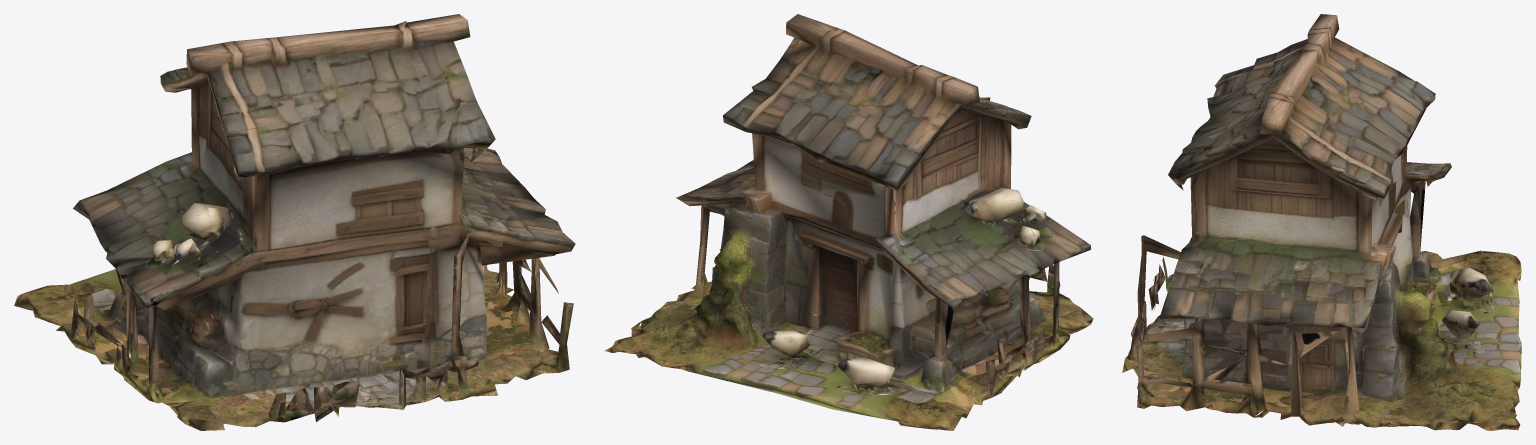
The model's file is farmstead.glb.
3 views of the same model, side by side, from view 1: azimuth 30°, elevation 25°; view 2: azimuth 150°, elevation 25°; view 3: azimuth 270°, elevation 25° (orthographic). The views are drawn at different scales.
Visible parts, largest first — view 1: Mesh1.0; view 2: Mesh1.0; view 3: Mesh1.0.
Part boxes in pixels (box(x1,y1,x2,y2)): Mesh1.0: box(14, 14, 575, 430); Mesh1.0: box(605, 14, 1093, 430); Mesh1.0: box(1122, 14, 1521, 430).
Size of the model in its own units: 1.95 by 1.41 by 1.81.
Materials: 1 (1 with a texture image).
